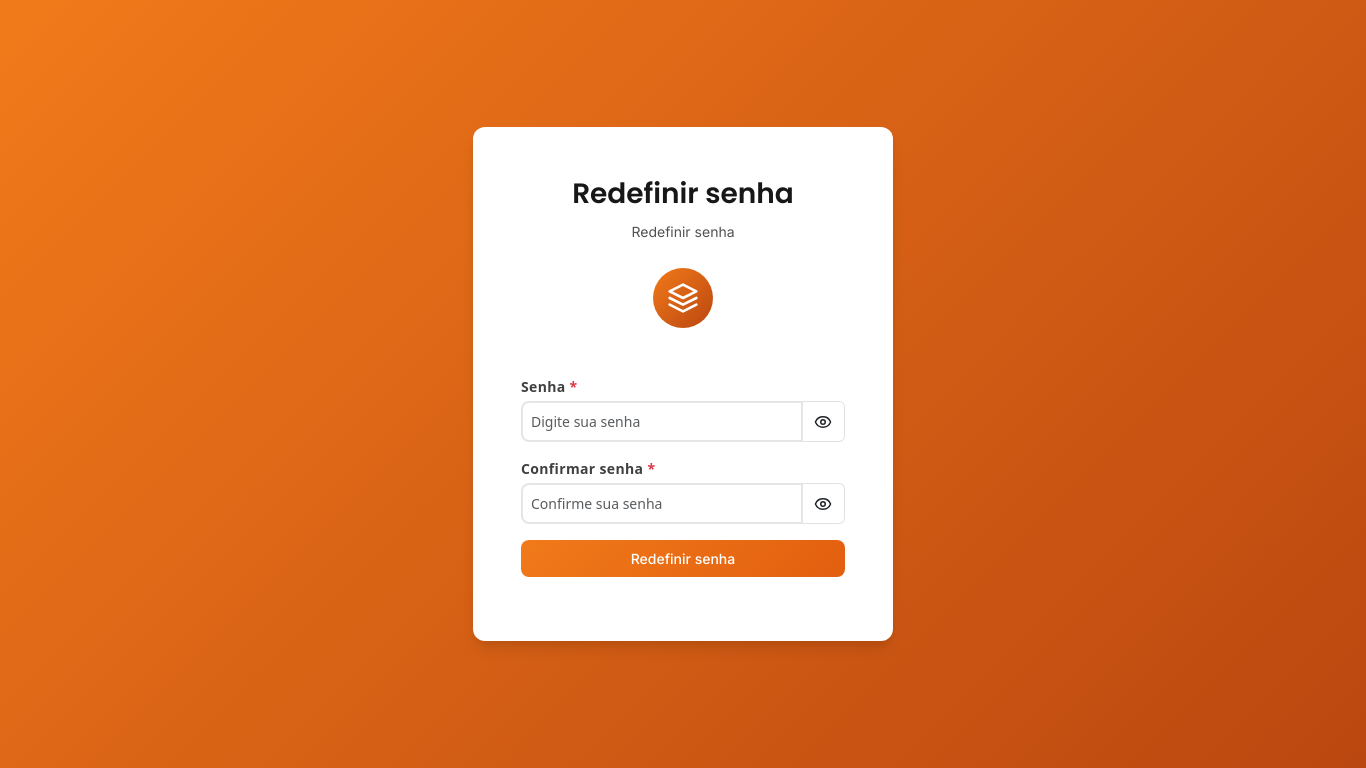
Scenario: ResetPassword › should show form with disabled button and loading text in form_submitted state
Check: the password field with test id "confirmPassword" is shown, box [521,483,803,524]
Type "NewPassword123!" into the password field with test id "password". click: (662, 422)
box: [521,401,803,442]
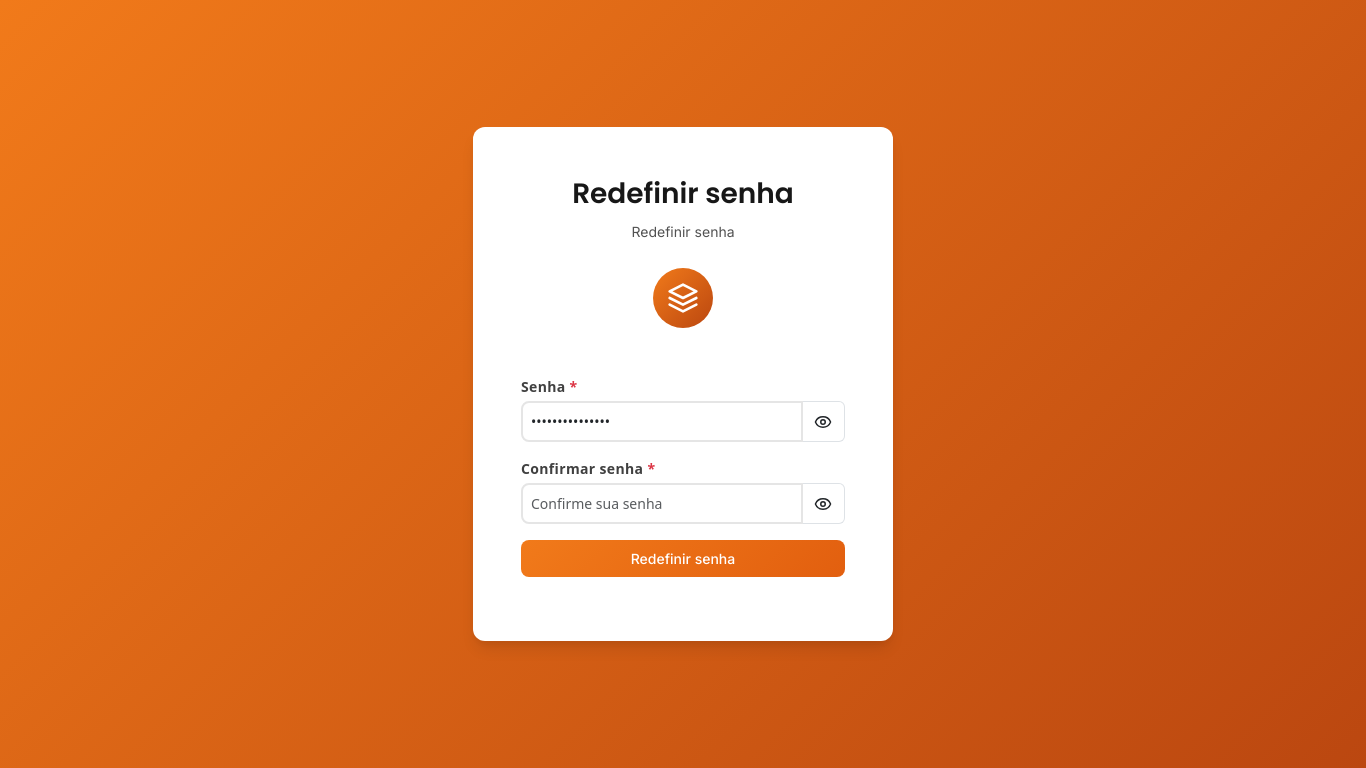
Type "NewPassword123!" into the password field with test id "confirmPassword". click: (662, 504)
box: [521,483,803,524]
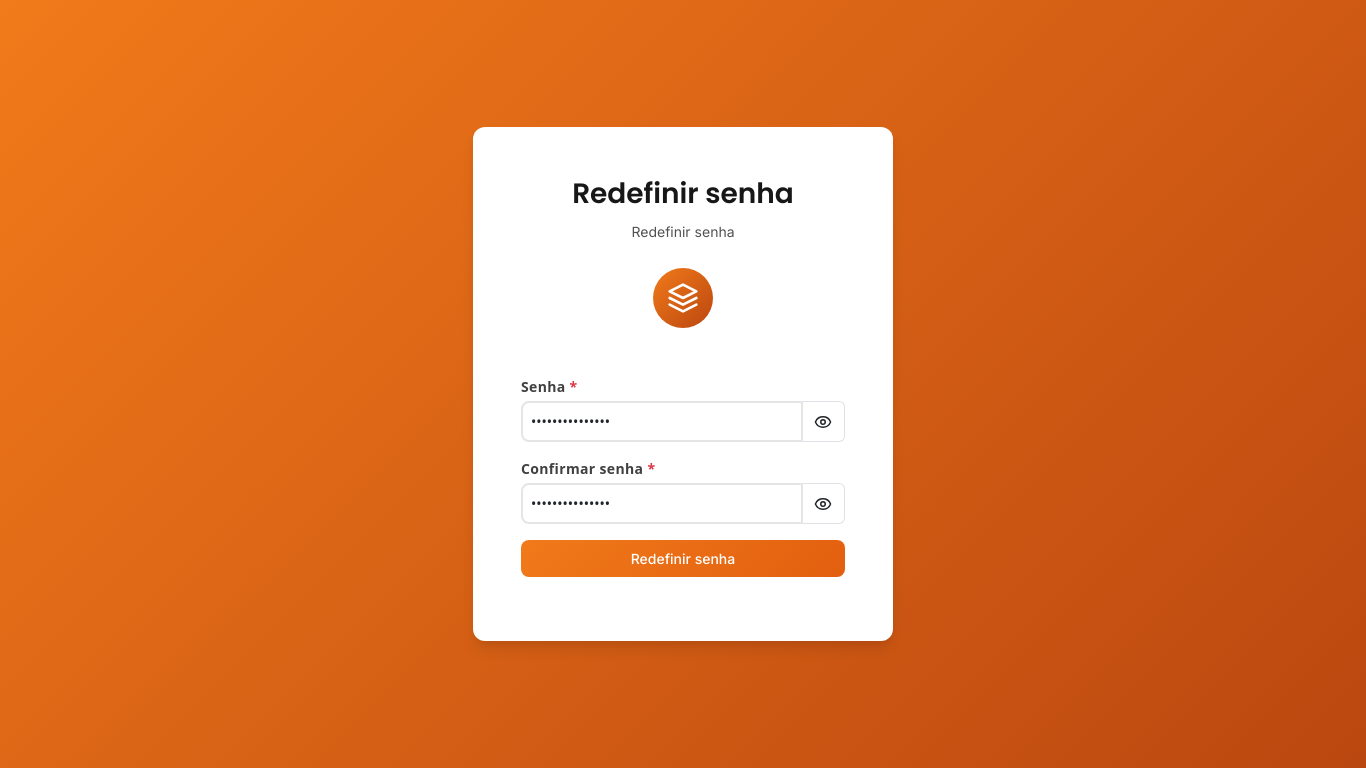
Click the button with test id "submit-button". click: (683, 559)
box: [521,540,845,577]
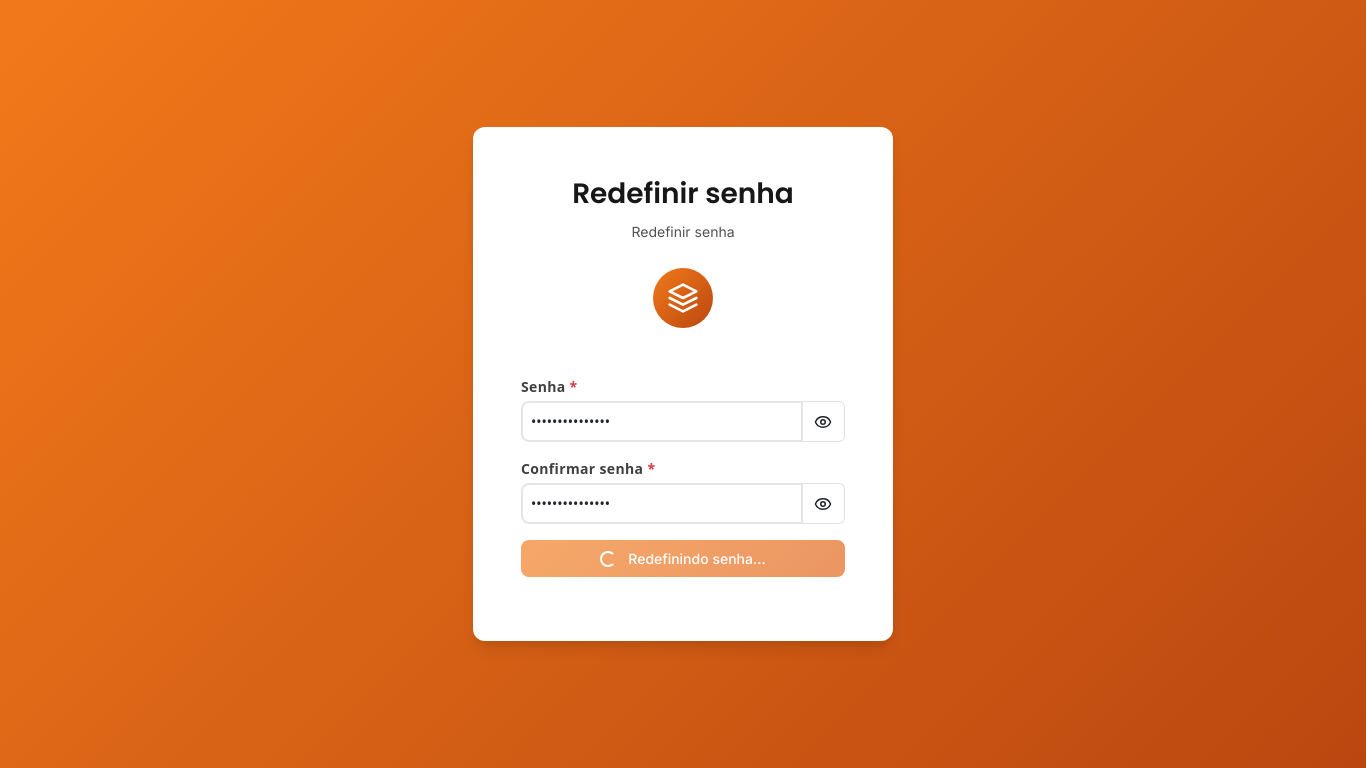
Check: the button with test id "submit-button" is disabled, box [521,540,845,577]
